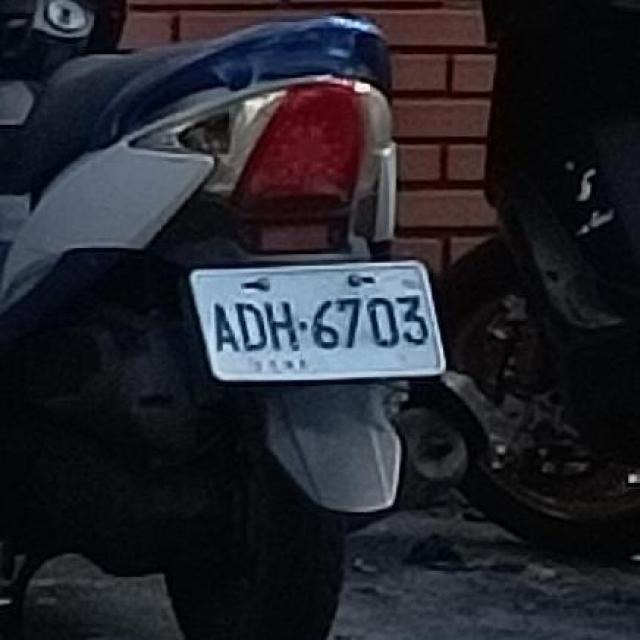W: (184, 250, 450, 394)
